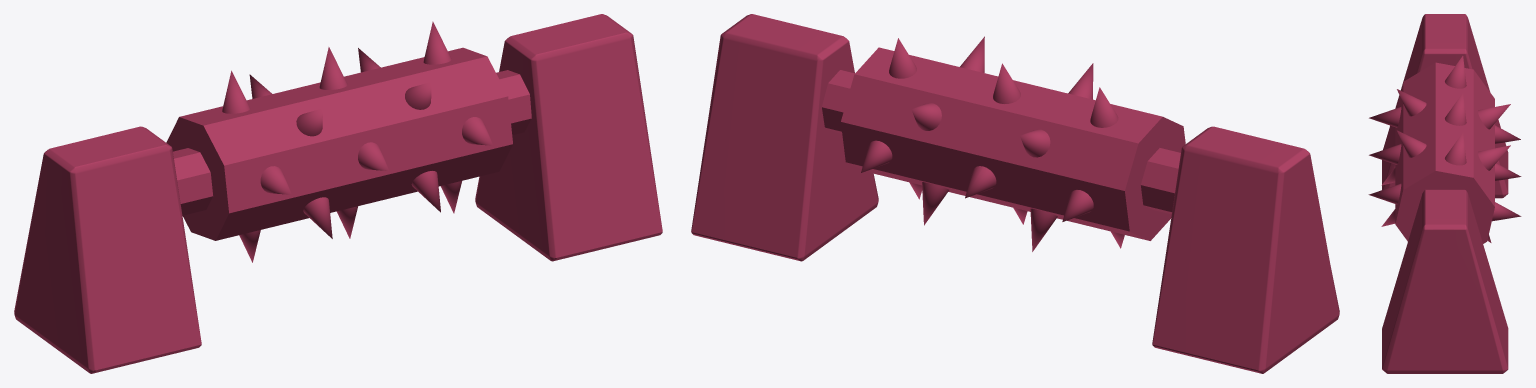
The model's file is OBSTACLE 07.fbx.
3 views of the same model, side by side, from view 1: azimuth 30°, elevation 25°; view 2: azimuth 150°, elevation 25°; view 3: azimuth 270°, elevation 25° (orthographic). The views are drawn at different scales.
Parts seen in each view (by area): view 1: pCone21, pCube2, pCube3; view 2: pCone21, pCube2, pCube3; view 3: pCube3, pCone21, pCube2.
Part boxes in pixels (box(x1,y1,x2,y2)): pCone21: box(166, 21, 531, 262); pCube2: box(14, 126, 201, 373); pCube3: box(475, 14, 662, 261); pCone21: box(822, 36, 1185, 251); pCube2: box(1152, 126, 1339, 373); pCube3: box(691, 14, 878, 261); pCube3: box(1382, 189, 1508, 373); pCone21: box(1368, 56, 1521, 243); pCube2: box(1382, 14, 1508, 198).
Size of the model in its own units: 228 by 84.32 by 67.32.
